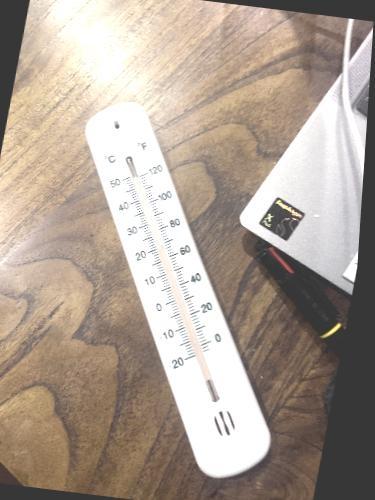thermo: (82, 95, 276, 474)
